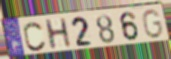2: (70, 15, 96, 49)
6: (118, 11, 140, 42)
8: (94, 13, 116, 46)
C: (23, 21, 48, 52)
G: (141, 8, 165, 40)
H: (43, 16, 74, 52)
